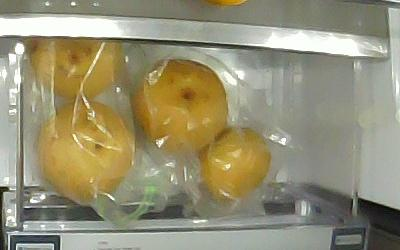pear_vinyl: (36, 99, 134, 204), (134, 59, 228, 149), (27, 39, 125, 98), (200, 128, 273, 200)
